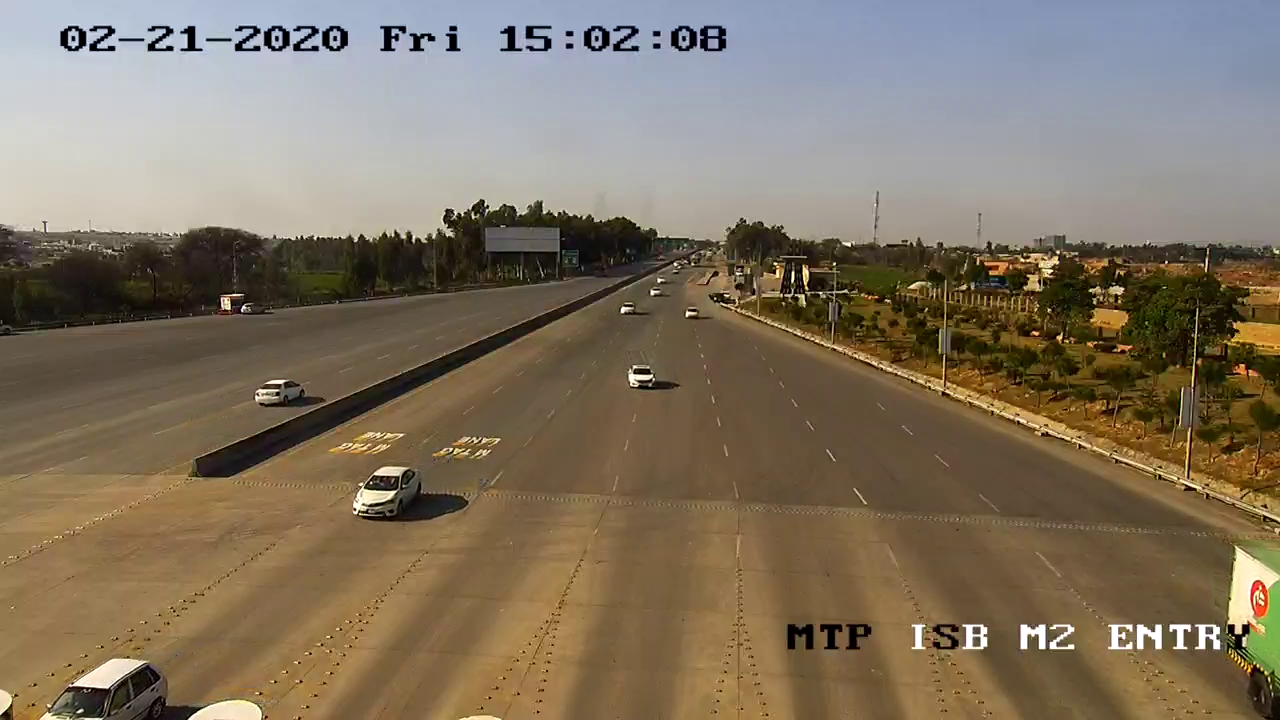f1: (344, 460, 430, 527), (615, 356, 672, 399)
